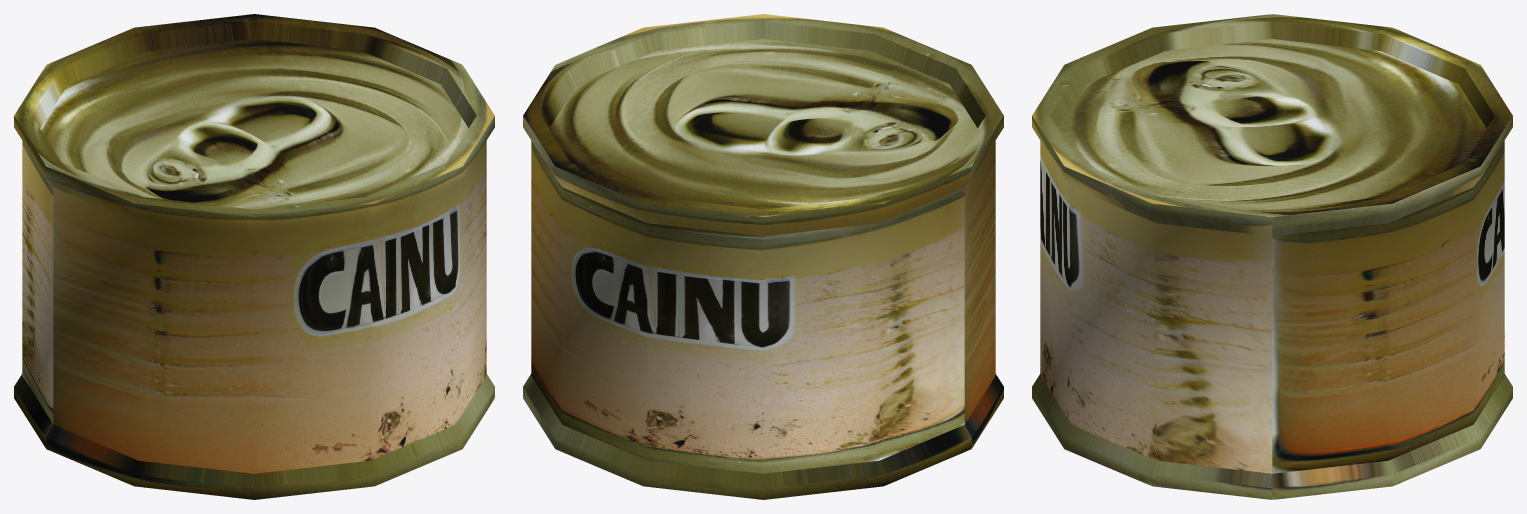
Rendered from SM_Can00.fbx.
3 renders of one model, left to right at view 1: azimuth 30°, elevation 25°; view 2: azimuth 150°, elevation 25°; view 3: azimuth 270°, elevation 25°, orthographic.
Visible parts, largest first — view 1: SM_Can00; view 2: SM_Can00; view 3: SM_Can00.
Part boxes in pixels (x1=…): SM_Can00: x1=14, y1=14, x2=494, y2=499; SM_Can00: x1=523, y1=14, x2=1003, y2=499; SM_Can00: x1=1032, y1=14, x2=1512, y2=499.
Bounding box in the file's own units: 17.71 × 11.5 × 17.71.
